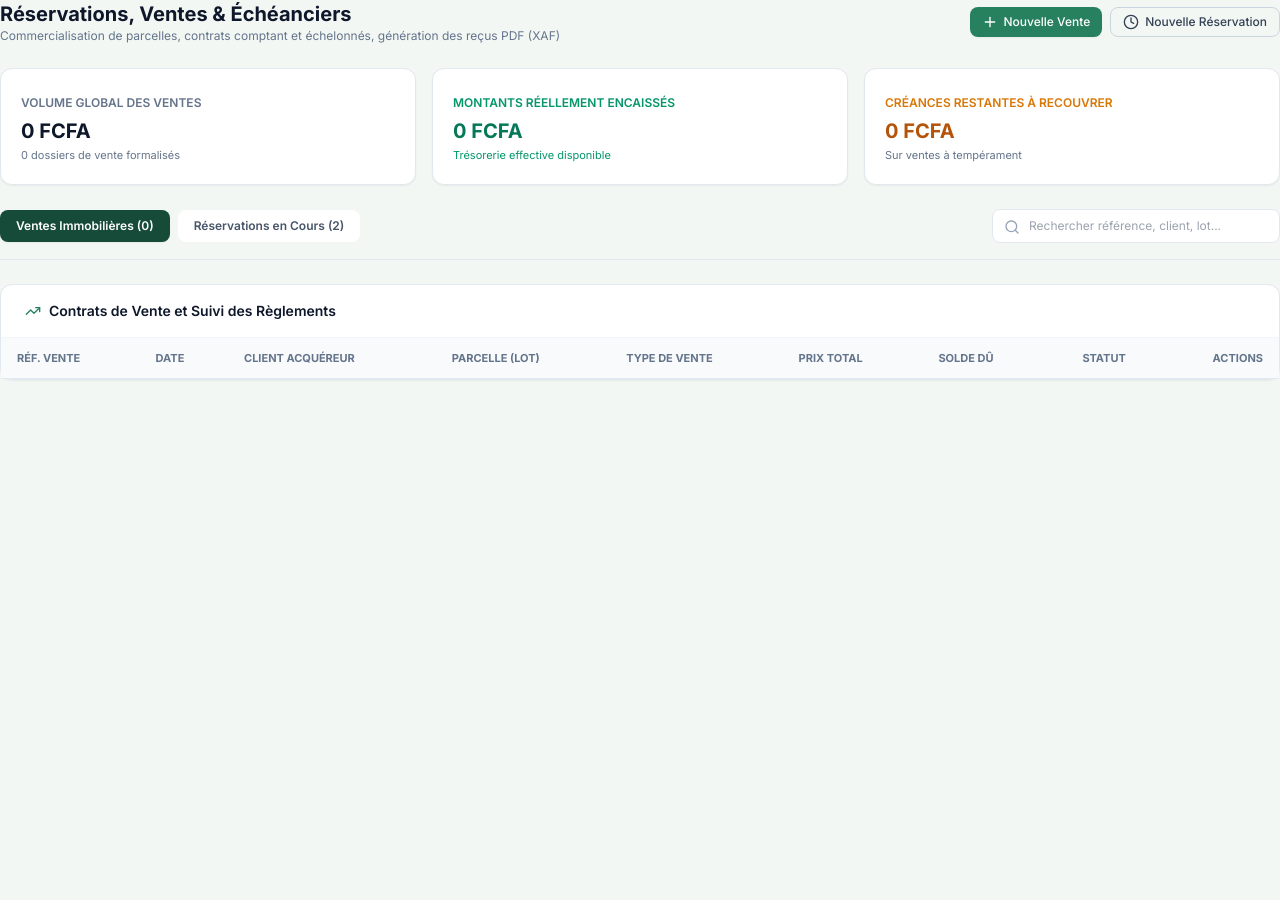
Test case: SalesPage en mode connecté — conversion réservation → vente › laisse le comptant d une parcelle libre au prix entier et l echeancier sur l apport saisi
The image size is (1280, 900).
Later steps or results of the test are not shown.
Click the button "Nouvelle Vente" at (1036, 22), box [970,7,1102,37]
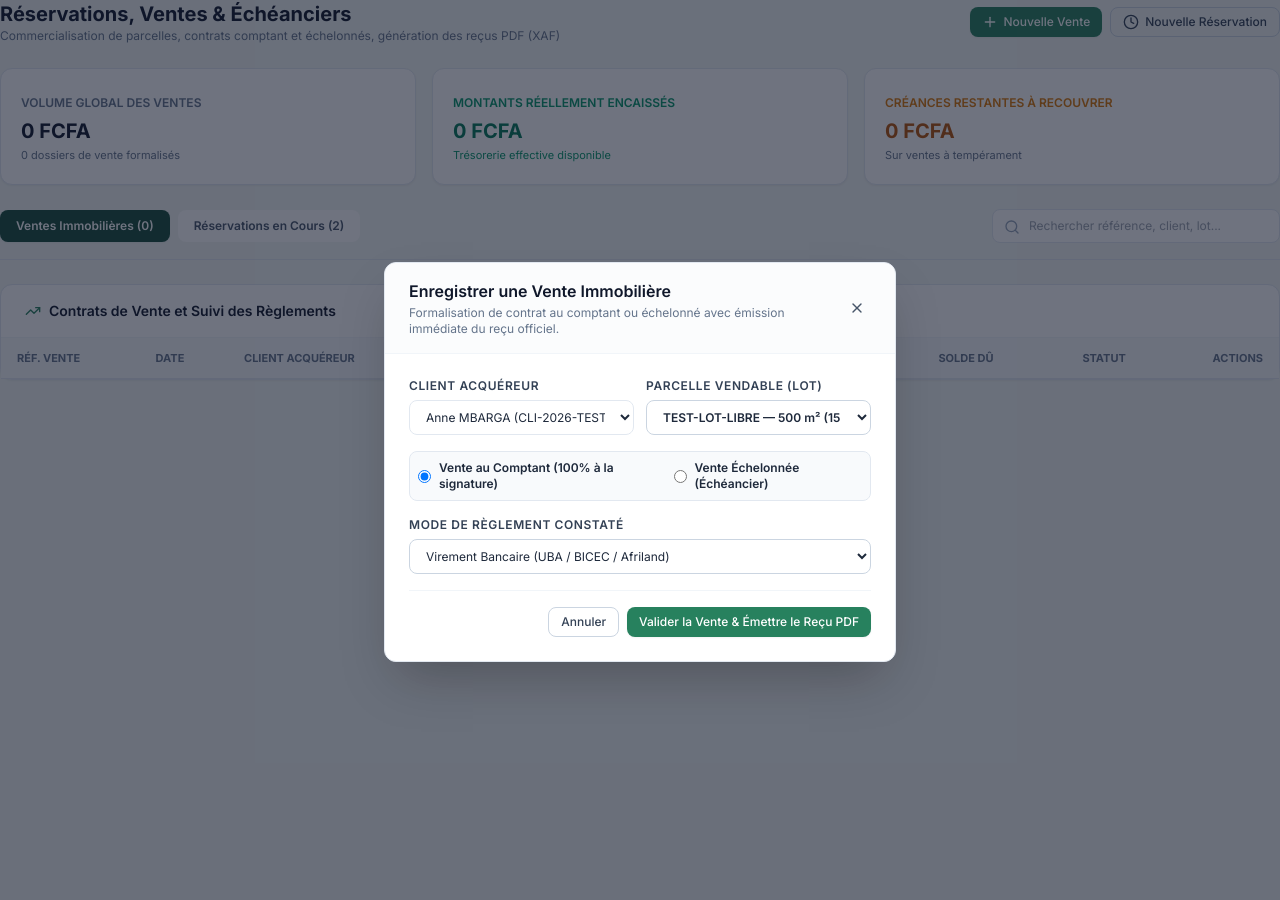
Expected: the heading "Enregistrer une Vente Immobilière" is shown, [409,281,671,301]
